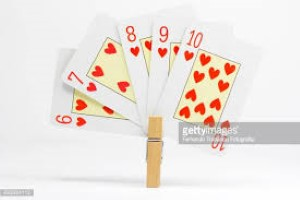NineOfHearts: (152, 15, 180, 86)
TenOfHearts: (172, 18, 264, 162)
